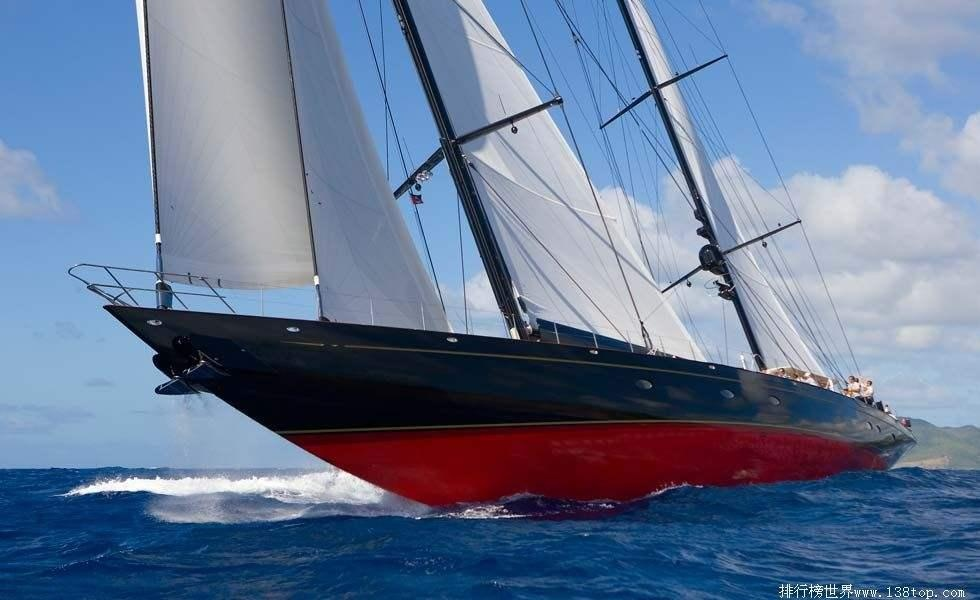fanchuan: (66, 1, 915, 518)
